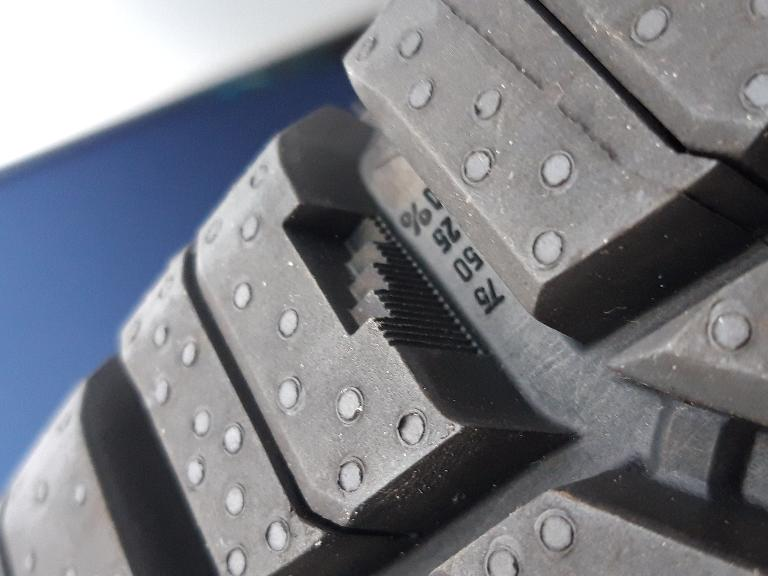temoin:100: (274, 194, 492, 370)
